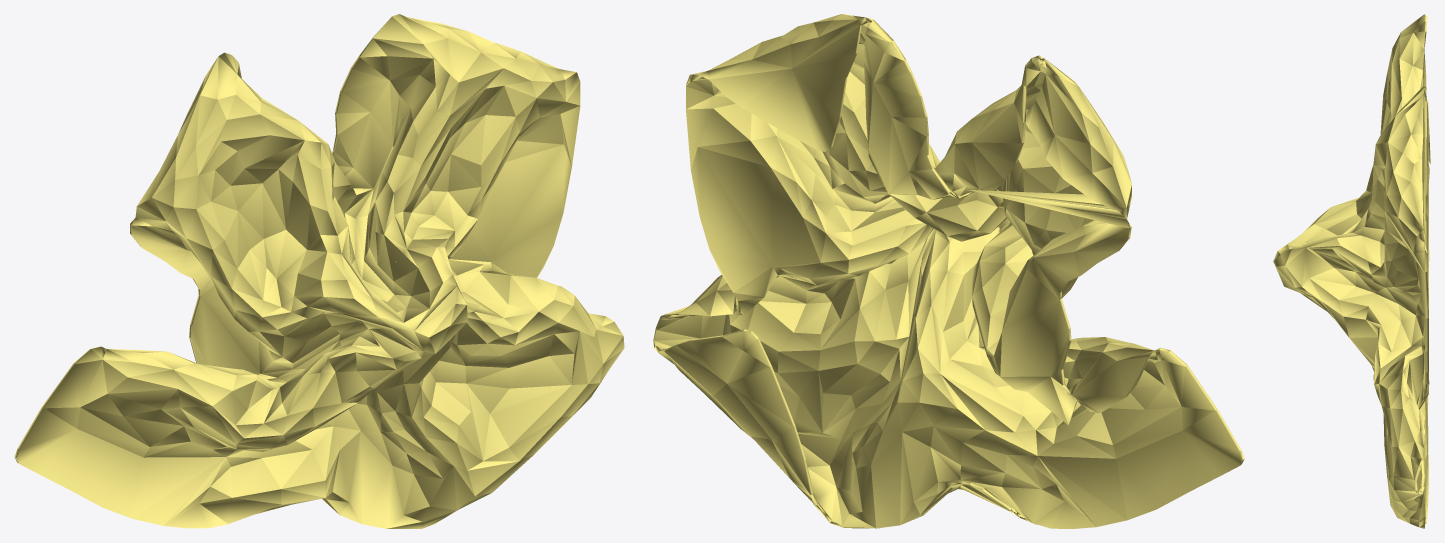
The model's file is MeshCloth_2_0_GeomSubset_0.obj.
3 renders of one model, left to right at view 1: azimuth 30°, elevation 25°; view 2: azimuth 150°, elevation 25°; view 3: azimuth 270°, elevation 25°, orthographic. The views are drawn at different scales.
Visible parts, largest first — view 1: MeshCloth_2_0_GeomSubset_0; view 2: MeshCloth_2_0_GeomSubset_0; view 3: MeshCloth_2_0_GeomSubset_0.
Boxes of the visible parts, left/top/right/bottom form: MeshCloth_2_0_GeomSubset_0: left=14, top=14, right=624, bottom=528; MeshCloth_2_0_GeomSubset_0: left=653, top=14, right=1244, bottom=528; MeshCloth_2_0_GeomSubset_0: left=1273, top=14, right=1430, bottom=528.
Size of the model in its own units: 0.2226 by 0.1853 by 0.0614.
